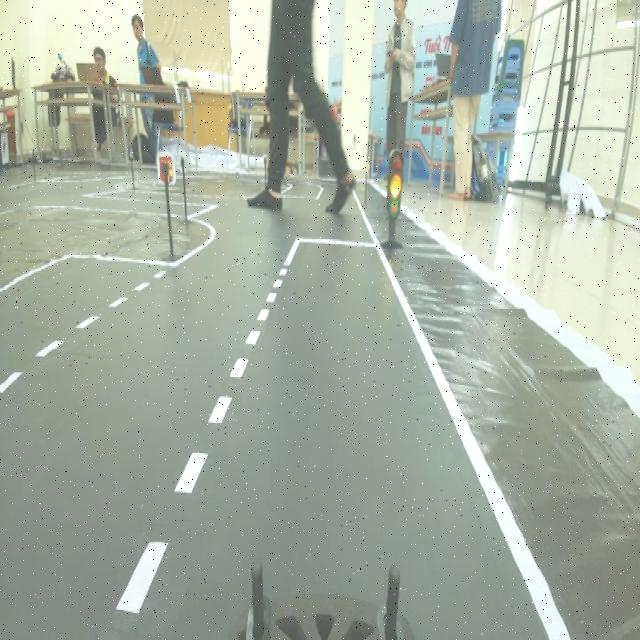trafficlight: (374, 140, 411, 261)
